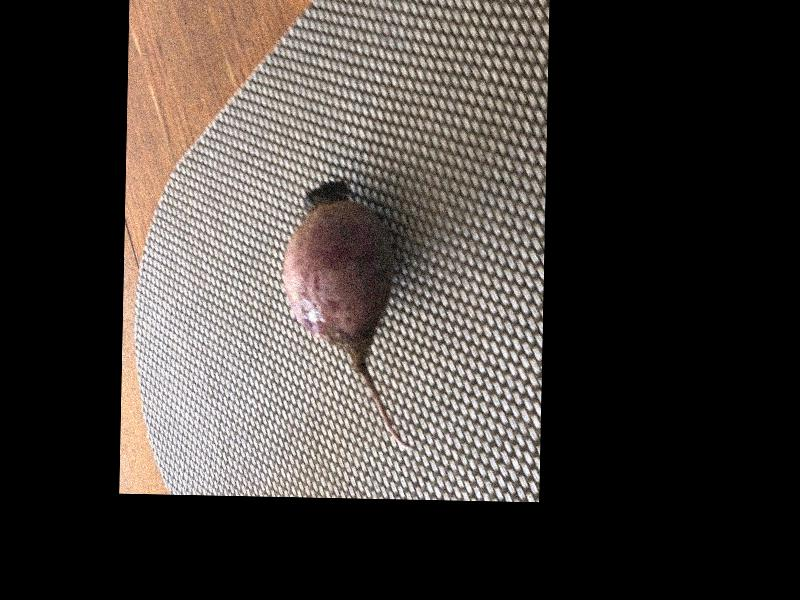Beet: (280, 178, 419, 451)
